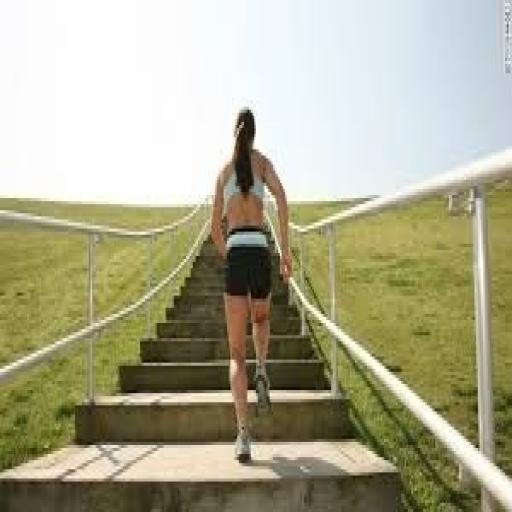running: (208, 104, 295, 466)
